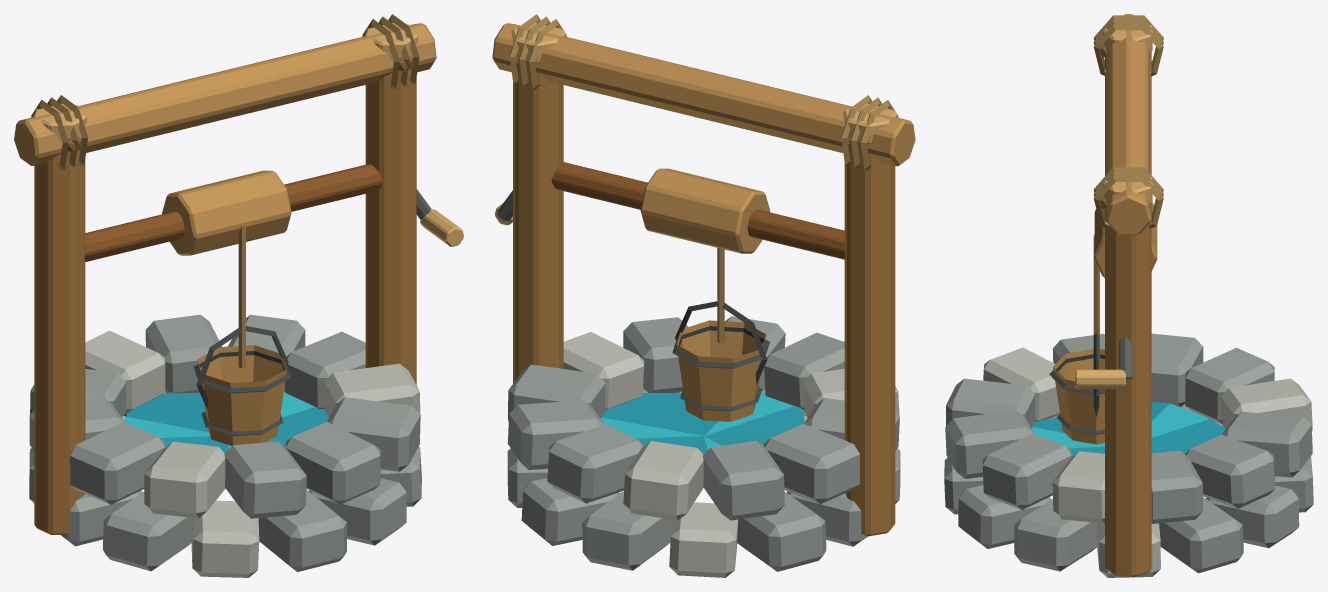
The model's file is homemade_stone_well.glb.
3 views of the same model, side by side, from view 1: azimuth 30°, elevation 25°; view 2: azimuth 150°, elevation 25°; view 3: azimuth 270°, elevation 25° (orthographic). The views are drawn at different scales.
Visible parts, largest first — view 1: Well_Left_Post, Well_Top_Beam, Well_Right_Post, Well_Windlass_Drum, Well_Bucket_Body, Well_Windlass_Axle, Well_Stone_R2_10, Well_Stone_R2_7, Well_Stone_R2_9, Well_Stone_R2_8, Well_Water, Well_Stone_R1_8 (+20 smaller); view 2: Well_Left_Post, Well_Top_Beam, Well_Right_Post, Well_Windlass_Drum, Well_Water, Well_Bucket_Body, Well_Windlass_Axle, Well_Stone_R2_6, Well_Stone_R2_5, Well_Stone_R2_3, Well_Stone_R2_4, Well_Stone_R1_4 (+20 smaller); view 3: Well_Right_Post, Well_Top_Beam, Well_Stone_R2_11, Well_Stone_R2_2, Well_Stone_R1_2, Well_Stone_R1_12, Well_Water, Well_Stone_R2_10, Well_Stone_R2_5, Well_Stone_R2_3, Well_Stone_R2_1, Well_Stone_R2_12 (+20 smaller).
Part boxes in pixels (bbox=[...]): Well_Left_Post: bbox=[34, 149, 85, 534]; Well_Top_Beam: bbox=[14, 23, 436, 165]; Well_Right_Post: bbox=[365, 69, 416, 384]; Well_Windlass_Drum: bbox=[162, 170, 291, 255]; Well_Bucket_Body: bbox=[198, 345, 287, 445]; Well_Windlass_Axle: bbox=[84, 164, 383, 261]; Well_Stone_R2_10: bbox=[285, 421, 380, 504]; Well_Stone_R2_7: bbox=[70, 422, 164, 504]; Well_Stone_R2_9: bbox=[224, 441, 306, 518]; Well_Stone_R2_8: bbox=[144, 441, 225, 518]; Well_Water: bbox=[124, 391, 328, 452]; Well_Stone_R1_8: bbox=[103, 492, 192, 571]; Well_Left_Post: bbox=[844, 139, 895, 536]; Well_Top_Beam: bbox=[492, 23, 915, 166]; Well_Right_Post: bbox=[513, 58, 563, 383]; Well_Windlass_Drum: bbox=[640, 168, 770, 253]; Well_Water: bbox=[600, 393, 804, 454]; Well_Bucket_Body: bbox=[676, 320, 765, 421]; Well_Windlass_Axle: bbox=[551, 162, 844, 259]; Well_Stone_R2_6: bbox=[764, 423, 859, 504]; Well_Stone_R2_5: bbox=[703, 440, 784, 520]; Well_Stone_R2_3: bbox=[547, 424, 643, 503]; Well_Stone_R2_4: bbox=[623, 441, 703, 520]; Well_Stone_R1_4: bbox=[582, 491, 671, 570]; Well_Right_Post: bbox=[1105, 203, 1151, 577]; Well_Top_Beam: bbox=[1106, 14, 1151, 235]; Well_Stone_R2_11: bbox=[982, 433, 1071, 509]; Well_Stone_R2_2: bbox=[1185, 434, 1275, 508]; Well_Stone_R1_2: bbox=[1159, 497, 1243, 573]; Well_Stone_R1_12: bbox=[1014, 499, 1096, 571]; Well_Water: bbox=[1031, 402, 1225, 457]; Well_Stone_R2_10: bbox=[945, 410, 1034, 478]; Well_Stone_R2_5: bbox=[1185, 347, 1274, 423]; Well_Stone_R2_3: bbox=[1222, 411, 1312, 477]; Well_Stone_R2_1: bbox=[1151, 450, 1202, 523]; Well_Stone_R2_12: bbox=[1052, 451, 1104, 523].
Bounding box in the file's own units: 3.18 × 3.23 × 2.63.
